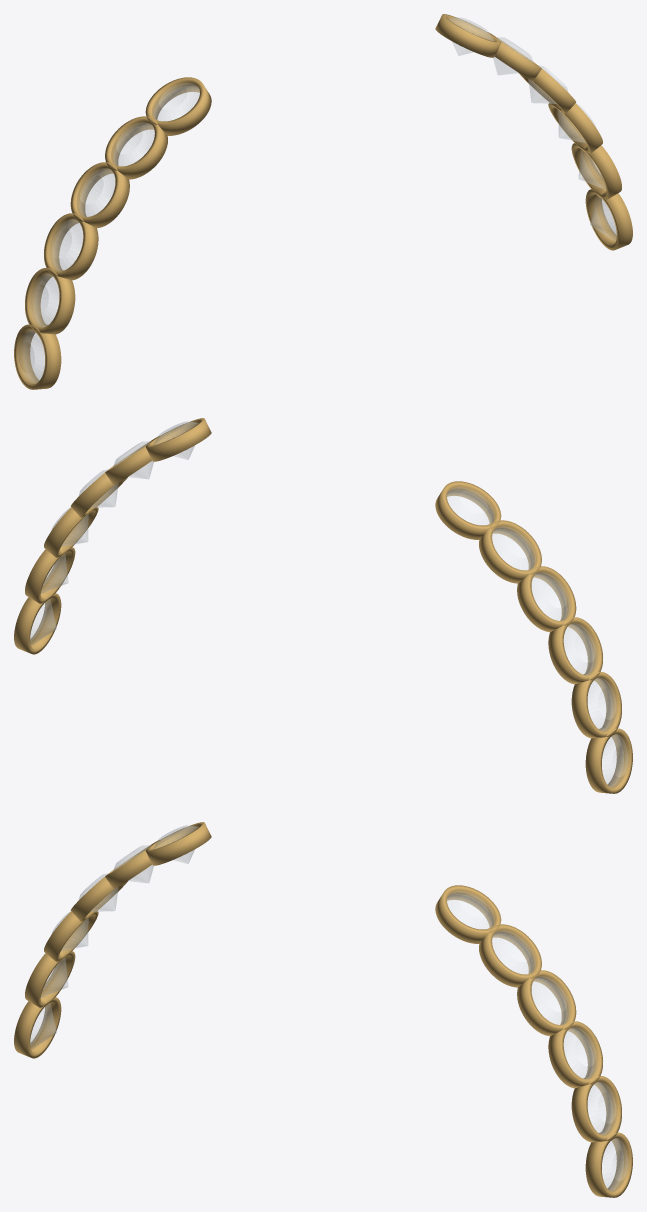
The model's file is accents-bezel-accents.glb.
3 renders of one model, top to bottom at view 1: azimuth 30°, elevation 25°; view 2: azimuth 150°, elevation 25°; view 3: azimuth 330°, elevation 25°, orthographic.
Parts seen in each view (by area): view 1: Accent bezel, Accent bezel.002, Accent bezel.001, Accent bezel.003, Accent bezel.005, Accent bezel.004, Accent bezel.011, Accent bezel.010, Accent bezel.006, Accent bezel.009, Gem.002, Gem.001 (+9 smaller); view 2: Accent bezel, Accent bezel.002, Accent bezel.001, Accent bezel.003, Accent bezel.005, Accent bezel.004, Accent bezel.011, Accent bezel.010, Accent bezel.006, Accent bezel.009, Gem.002, Gem.001 (+9 smaller); view 3: Accent bezel.006, Accent bezel.008, Accent bezel.007, Accent bezel.009, Accent bezel.011, Accent bezel.010, Accent bezel.005, Accent bezel.004, Accent bezel, Accent bezel.003, Gem.008, Gem.007 (+9 smaller).
Part boxes in pixels (x1=…): Accent bezel: x1=145, y1=77, x2=211, y2=135; Accent bezel.002: x1=70, y1=162, x2=129, y2=228; Accent bezel.001: x1=105, y1=116, x2=167, y2=179; Accent bezel.003: x1=44, y1=213, x2=98, y2=280; Accent bezel.005: x1=14, y1=324, x2=61, y2=389; Accent bezel.004: x1=25, y1=268, x2=75, y2=334; Accent bezel.011: x1=585, y1=188, x2=632, y2=250; Accent bezel.010: x1=571, y1=141, x2=621, y2=199; Accent bezel.006: x1=435, y1=14, x2=500, y2=57; Accent bezel.009: x1=548, y1=103, x2=602, y2=153; Gem.002: x1=77, y1=168, x2=114, y2=216; Gem.001: x1=111, y1=122, x2=154, y2=165; Accent bezel: x1=435, y1=481, x2=501, y2=539; Accent bezel.002: x1=517, y1=566, x2=576, y2=632; Accent bezel.001: x1=479, y1=520, x2=541, y2=583; Accent bezel.003: x1=548, y1=617, x2=602, y2=684; Accent bezel.005: x1=585, y1=728, x2=632, y2=793; Accent bezel.004: x1=571, y1=672, x2=621, y2=738; Accent bezel.011: x1=14, y1=592, x2=61, y2=654; Accent bezel.010: x1=25, y1=545, x2=75, y2=603; Accent bezel.006: x1=146, y1=418, x2=211, y2=461; Accent bezel.009: x1=44, y1=507, x2=98, y2=557; Gem.002: x1=532, y1=572, x2=569, y2=620; Gem.001: x1=492, y1=526, x2=535, y2=569; Accent bezel.006: x1=435, y1=885, x2=501, y2=943; Accent bezel.008: x1=517, y1=970, x2=576, y2=1036; Accent bezel.007: x1=479, y1=924, x2=541, y2=987; Accent bezel.009: x1=548, y1=1021, x2=602, y2=1088; Accent bezel.011: x1=585, y1=1132, x2=632, y2=1197; Accent bezel.010: x1=571, y1=1076, x2=621, y2=1142; Accent bezel.005: x1=14, y1=996, x2=61, y2=1058; Accent bezel.004: x1=25, y1=949, x2=75, y2=1007; Accent bezel: x1=146, y1=822, x2=211, y2=865; Accent bezel.003: x1=44, y1=911, x2=98, y2=961; Gem.008: x1=532, y1=976, x2=569, y2=1024; Gem.007: x1=492, y1=930, x2=535, y2=973.
Size of the model in its own units: 19.89 by 8.49 by 1.89.
